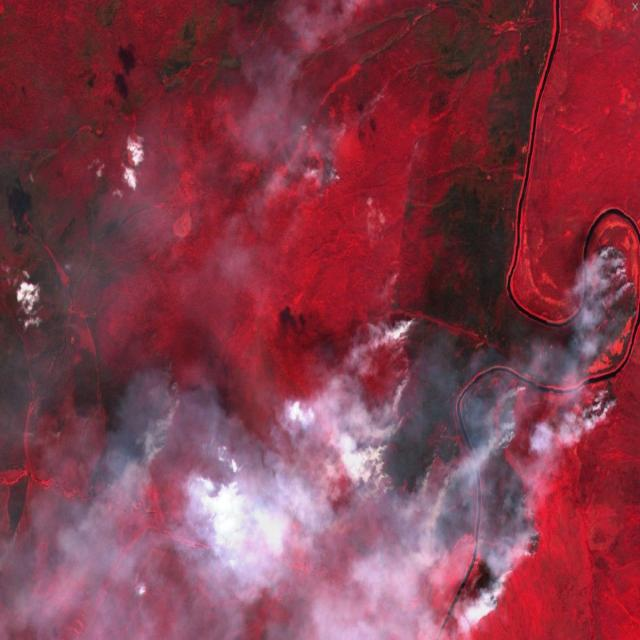fire: (371, 237, 640, 617), (88, 369, 190, 497)
